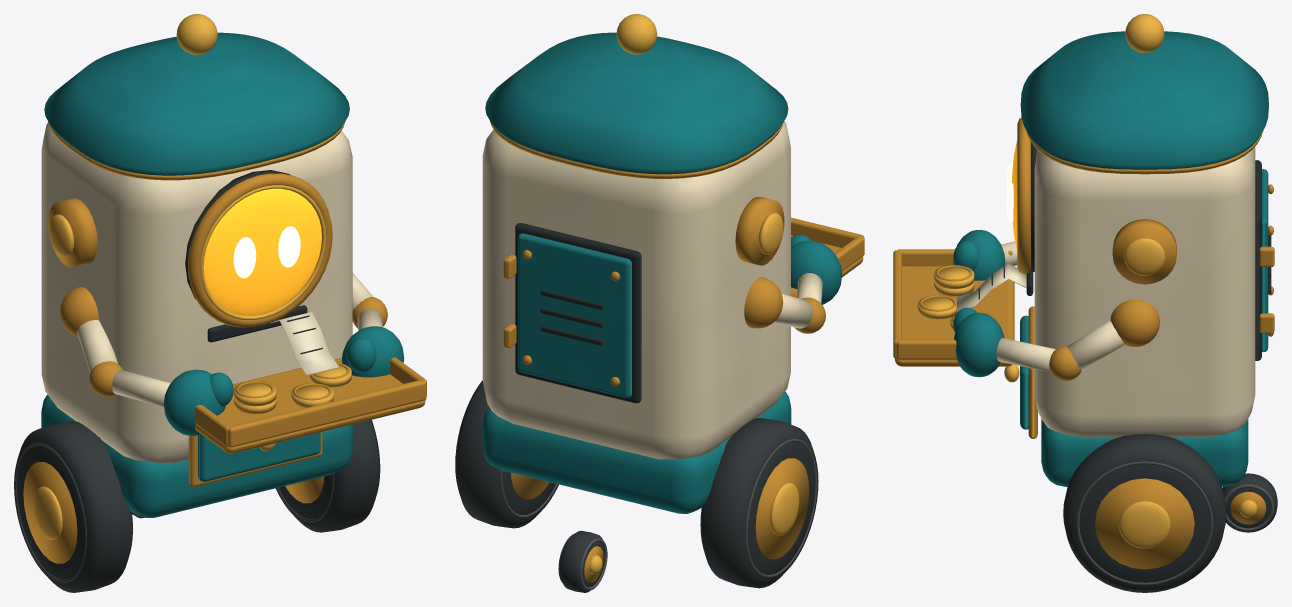
3 views of the same model, side by side, from view 1: azimuth 30°, elevation 25°; view 2: azimuth 150°, elevation 25°; view 3: azimuth 270°, elevation 25° (orthographic). The views are drawn at different scales.
Parts seen in each view (by area): view 1: body__robot_cream, body__robot_teal, wheel_l, tray__robot_brass, head__robot_amber, wheel_r, body__robot_brass, head__robot_brass, right_arm__robot_teal, wheel_l_hub, right_arm__robot_cream, tray__robot_gold (+10 smaller); view 2: body__robot_cream, body__robot_teal, wheel_l, wheel_r, body__robot_ink, body__robot_brass, wheel_l_hub, right_arm__robot_teal, wheel_c, body__robot_gold, right_arm__robot_brass, tray__robot_brass (+2 smaller); view 3: body__robot_cream, body__robot_teal, wheel_r, tray__robot_brass, wheel_r_hub, body__robot_brass, left_arm__robot_cream, body__robot_gold, left_arm__robot_teal, left_arm__robot_brass, head__robot_brass, wheel_c (+7 smaller).
Part boxes in pixels (x1,y1,x2,y2): body__robot_cream: [41, 122, 352, 463]; body__robot_teal: [41, 32, 352, 517]; wheel_l: [14, 421, 132, 592]; tray__robot_brass: [195, 357, 426, 453]; head__robot_amber: [203, 188, 321, 315]; wheel_r: [275, 420, 380, 532]; body__robot_brass: [48, 121, 345, 487]; head__robot_brass: [188, 173, 332, 327]; right_arm__robot_teal: [163, 369, 233, 435]; wheel_l_hub: [23, 462, 77, 563]; right_arm__robot_cream: [77, 320, 170, 407]; tray__robot_gold: [234, 362, 351, 413]; body__robot_cream: [482, 121, 790, 459]; body__robot_teal: [482, 32, 791, 513]; wheel_l: [700, 418, 818, 588]; wheel_r: [455, 380, 558, 528]; body__robot_ink: [515, 223, 641, 403]; body__robot_brass: [490, 121, 784, 386]; wheel_l_hub: [755, 458, 809, 559]; right_arm__robot_teal: [791, 234, 842, 304]; wheel_c: [558, 530, 607, 592]; body__robot_gold: [616, 14, 783, 254]; right_arm__robot_brass: [744, 277, 825, 333]; tray__robot_brass: [791, 217, 864, 297]; body__robot_cream: [1034, 146, 1255, 437]; body__robot_teal: [1020, 31, 1268, 486]; wheel_r: [1063, 434, 1226, 592]; tray__robot_brass: [893, 249, 1014, 366]; wheel_r_hub: [1095, 478, 1194, 569]; body__robot_brass: [1026, 130, 1274, 438]; left_arm__robot_cream: [996, 320, 1124, 372]; body__robot_gold: [1004, 14, 1165, 382]; left_arm__robot_teal: [953, 307, 1004, 377]; left_arm__robot_brass: [1049, 299, 1159, 380]; head__robot_brass: [1017, 118, 1030, 274]; wheel_c: [1222, 473, 1277, 532].
Size of the model in its own units: 0.6266 by 1.04 by 0.706.
10 materials, 2 textured.
